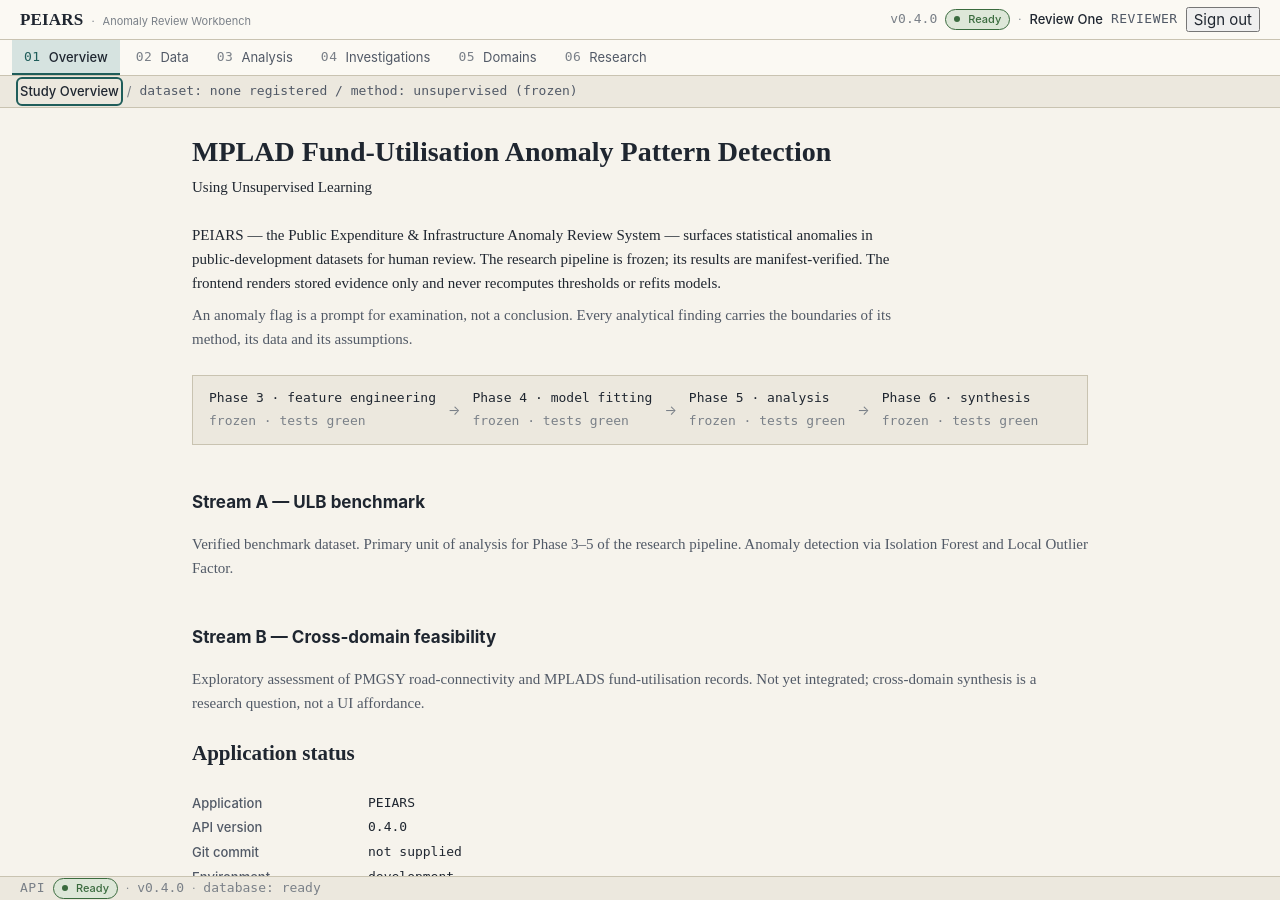
logout flow › sends the X-CSRF-Token header on POST /auth/logout and redirects to /login on 200
This screenshot has width=1280, height=900.
Expected: the element named "Workspaces" is shown, [12,40,659,75]
Click the button "Sign out" at (1223, 20), box [1186,7,1260,32]
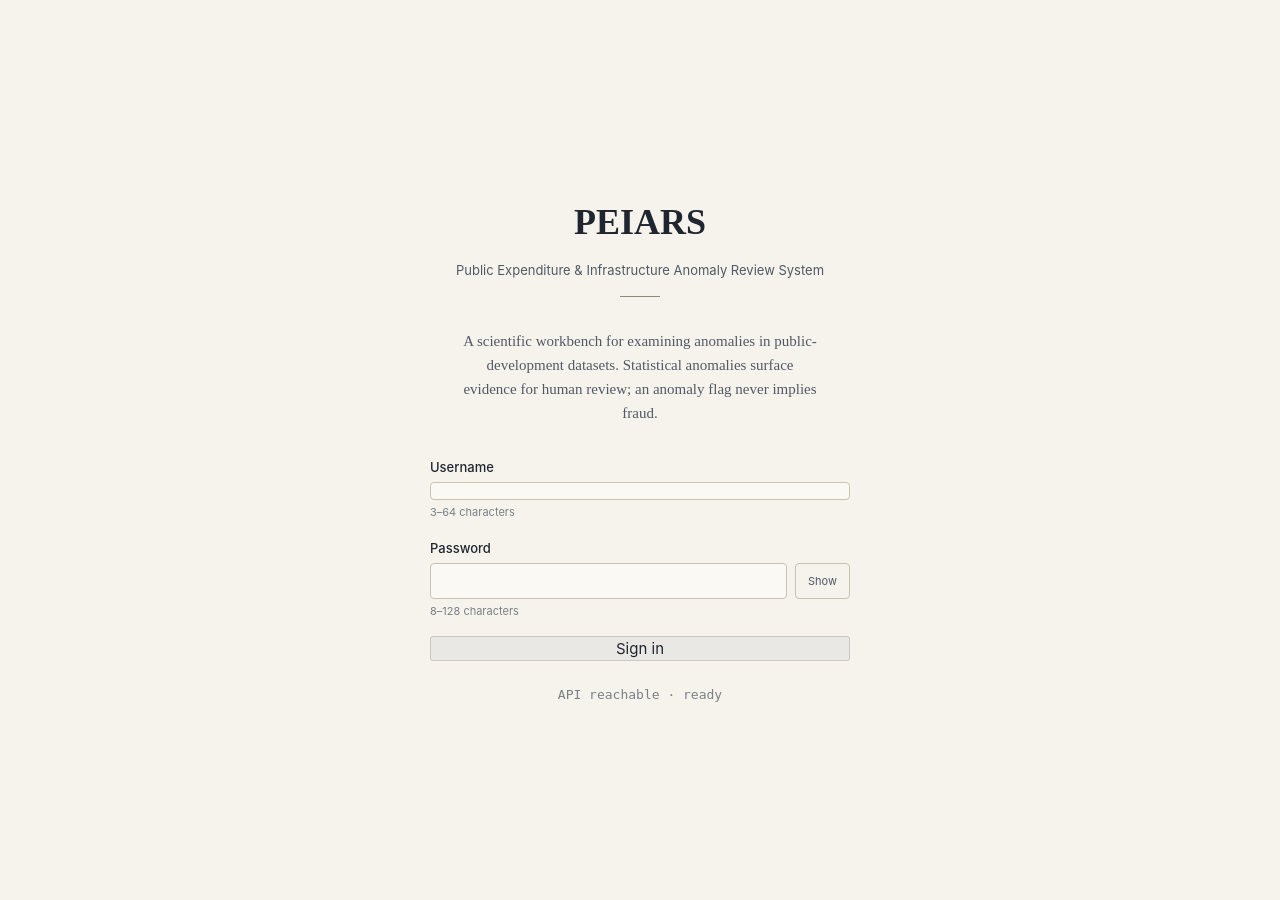
Expected: the heading "PEIARS" is shown, [574,194,706,252]
Expected: the element "Workspaces" is gone
